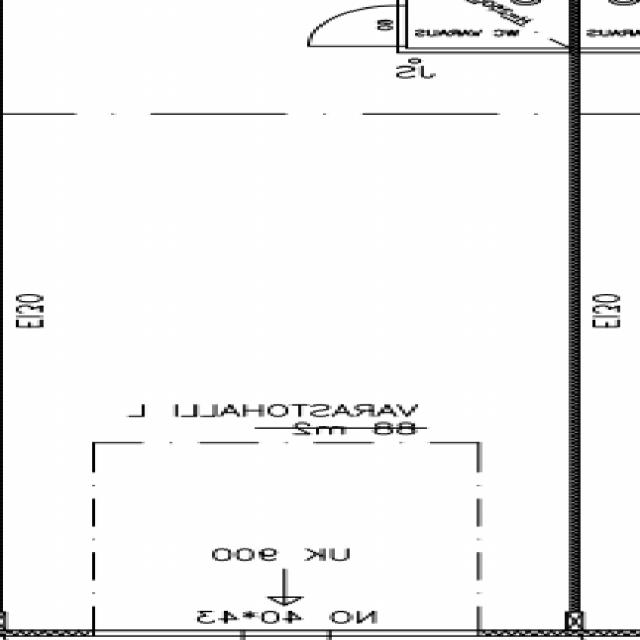door: (314, 7, 410, 46)
